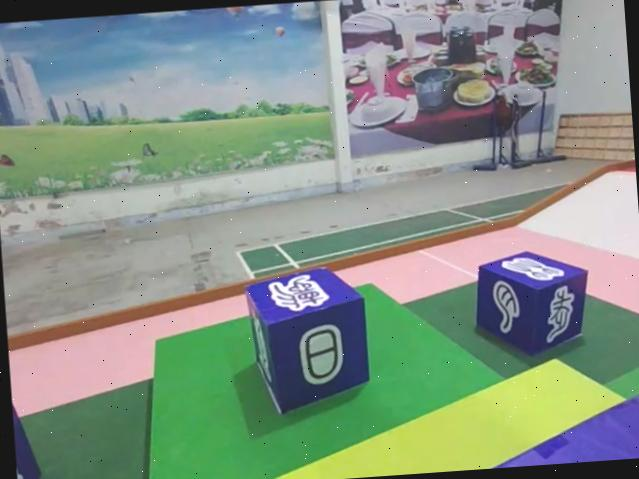R2 Fake Blue: (241, 262, 371, 417), (468, 249, 591, 362)
